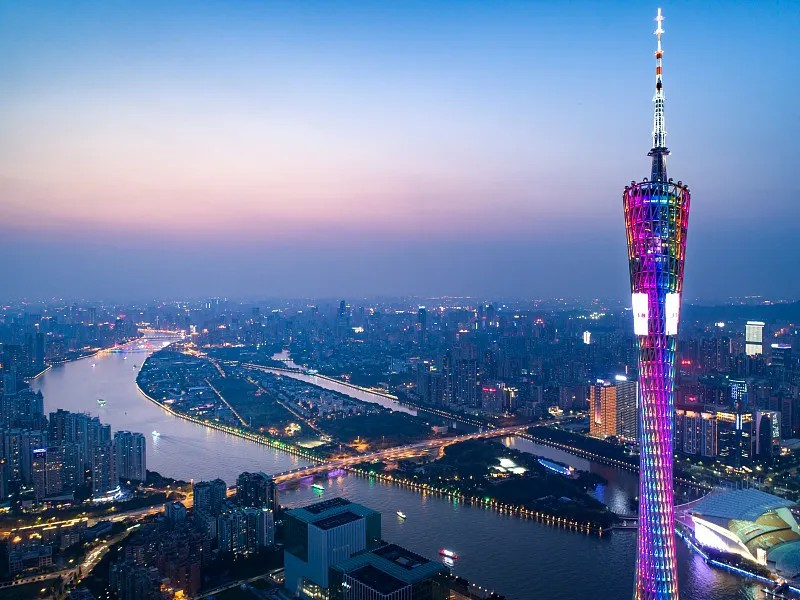Canton: (622, 5, 691, 600)
